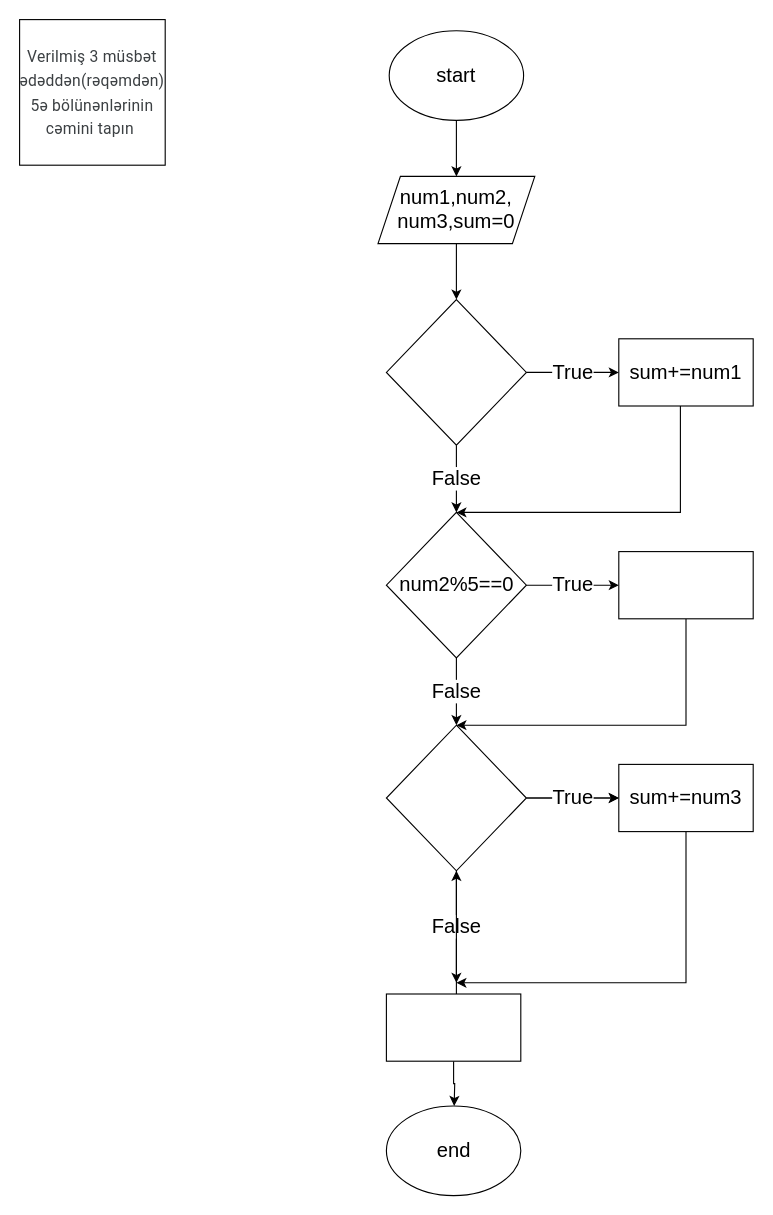
This 773x1215 diagram has some shape labels left out. The box of each missing label's shape, as (x1, y1, x2, y2) in pixels:
num1%5==0: (385, 298, 526, 445)
num3%5==0: (385, 724, 526, 871)
sum: (385, 993, 521, 1061)
sum+=num2: (618, 550, 753, 619)
